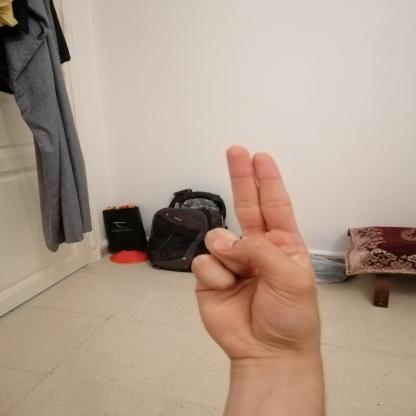TA: (181, 138, 334, 371)
